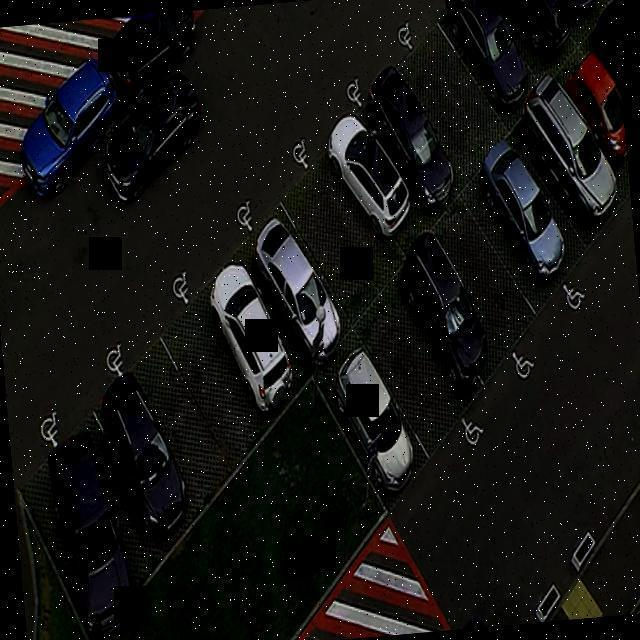space-empty: (389, 12, 501, 184)
space-occupied: (8, 402, 169, 632), (68, 340, 231, 527), (204, 193, 353, 368), (154, 262, 298, 440), (357, 267, 489, 461), (327, 68, 454, 252), (423, 202, 544, 383), (471, 147, 597, 320), (315, 343, 430, 514), (280, 130, 401, 290), (518, 98, 628, 240), (431, 0, 543, 112), (564, 61, 630, 202), (486, 0, 584, 56), (594, 0, 624, 130)
